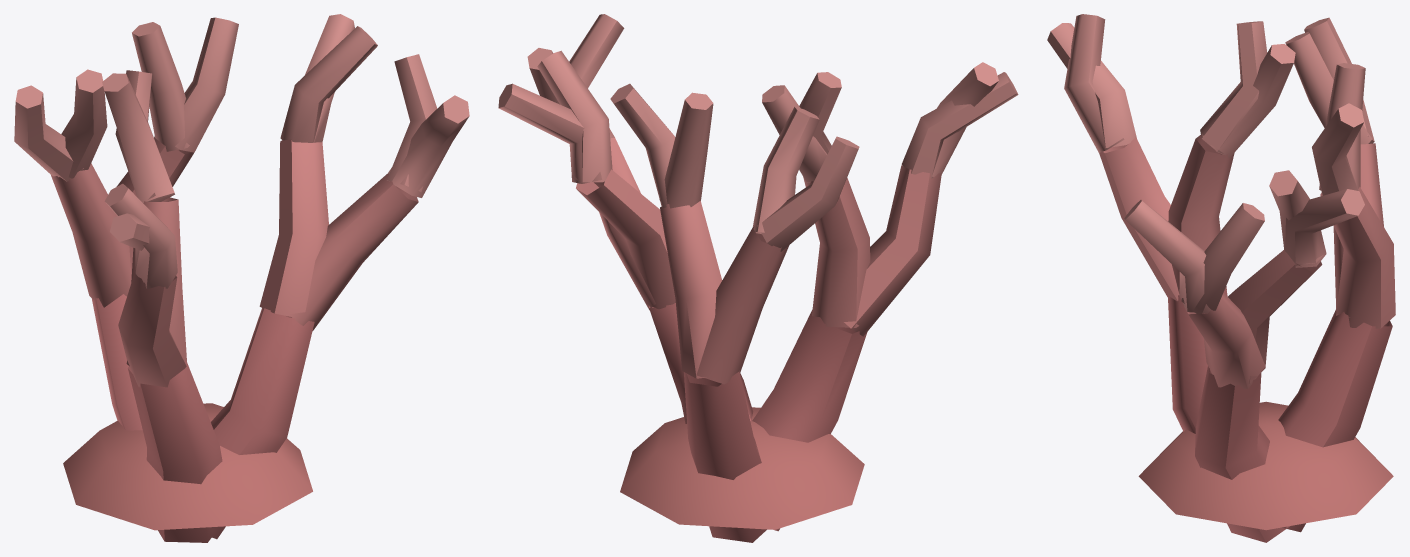
Rendered from coral-a.glb.
3 renders of one model, left to right at view 1: azimuth 30°, elevation 25°; view 2: azimuth 150°, elevation 25°; view 3: azimuth 270°, elevation 25°, orthographic. The views are drawn at different scales.
Parts seen in each view (by area): view 1: coral-a; view 2: coral-a; view 3: coral-a.
Boxes of the visible parts, x1=… form: coral-a: x1=14, y1=14, x2=469, y2=542; coral-a: x1=498, y1=14, x2=1018, y2=542; coral-a: x1=1047, y1=14, x2=1395, y2=542.
Size of the model in its own units: 0.6541 by 0.7327 by 0.4915.
